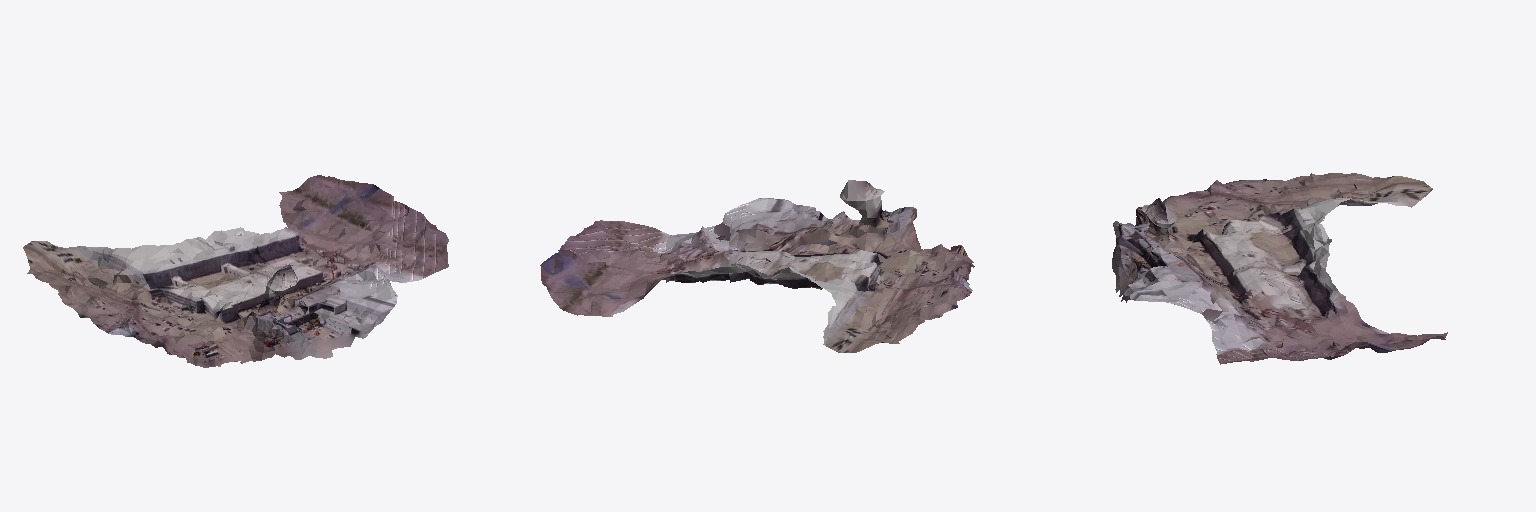
3 views of the same model, side by side, from view 1: azimuth 30°, elevation 25°; view 2: azimuth 150°, elevation 25°; view 3: azimuth 270°, elevation 25° (orthographic).
Parts seen in each view (by area): view 1: utahnsa:Mesh; view 2: utahnsa:Mesh; view 3: utahnsa:Mesh.
Part boxes in pixels (bbox=[...]): utahnsa:Mesh: bbox=[23, 175, 448, 367]; utahnsa:Mesh: bbox=[540, 180, 974, 352]; utahnsa:Mesh: bbox=[1112, 173, 1447, 364].
Size of the model in its own units: 263 by 54.75 by 210.
Materials: 1 (1 with a texture image).